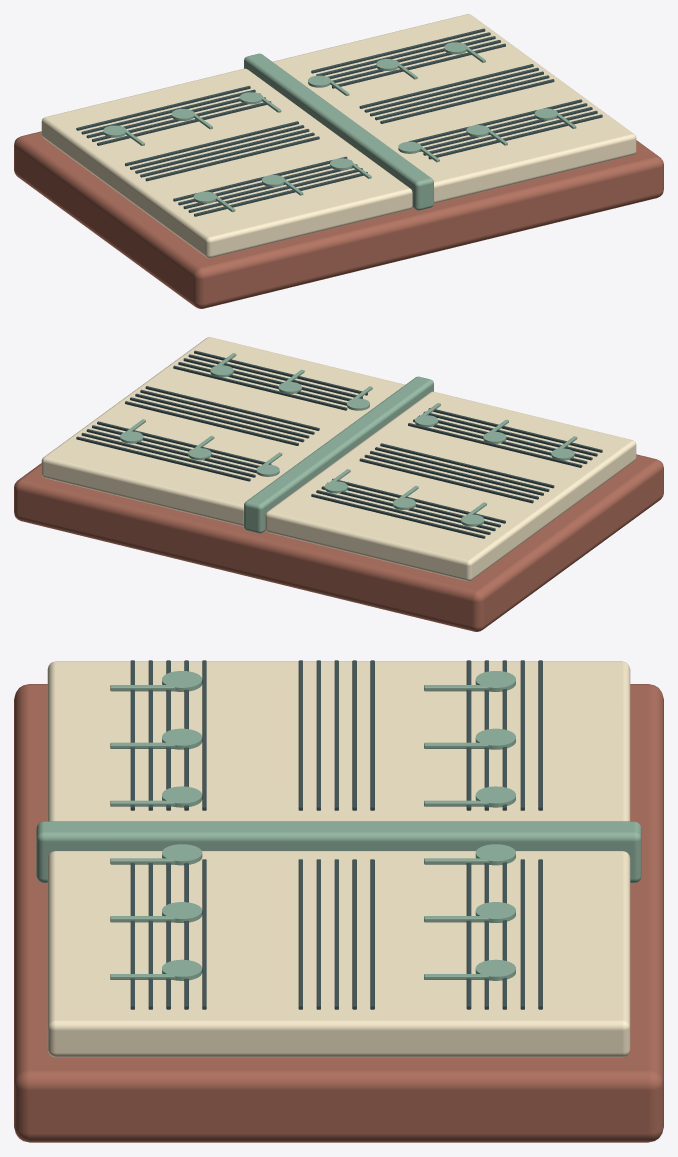
File: enchanted-harp-garden-and-music-sanctuary-score-folio-6b833636__30424.glb
3 renders of one model, top to bottom at view 1: azimuth 30°, elevation 25°; view 2: azimuth 150°, elevation 25°; view 3: azimuth 270°, elevation 25°, orthographic. The views are drawn at different scales.
Parts seen in each view (by area): view 1: score-folio; view 2: score-folio; view 3: score-folio.
Boxes of the visible parts, x1=… form: score-folio: x1=14, y1=14, x2=663, y2=308; score-folio: x1=14, y1=337, x2=663, y2=631; score-folio: x1=14, y1=660, x2=663, y2=1142.
Size of the model in its own units: 0.42 by 0.06 by 0.29.
